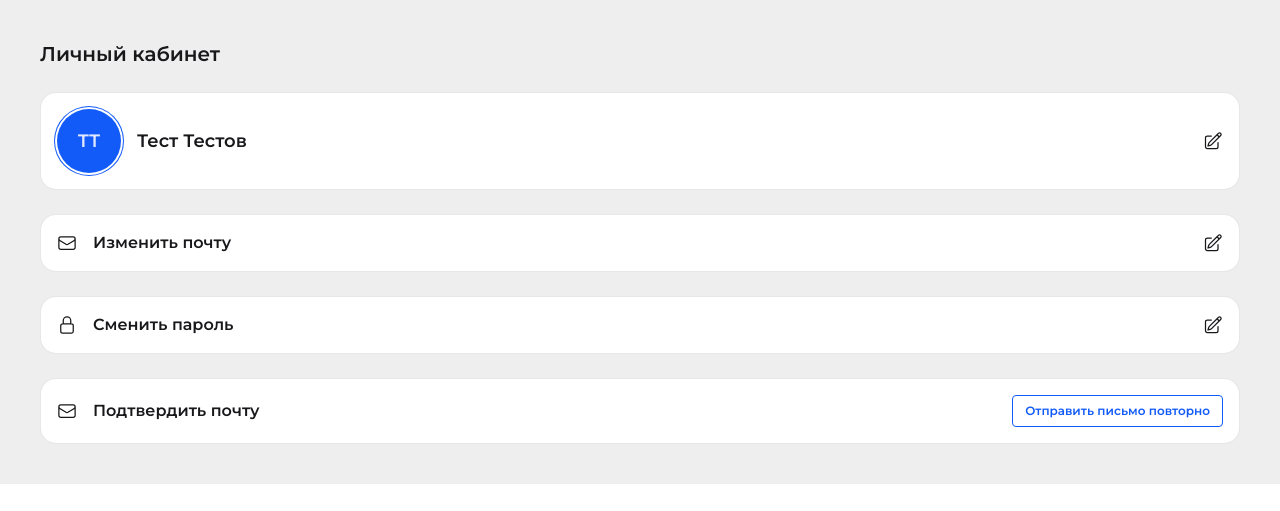
Test case: ProfilePage › VERIFY-03: кнопка disabled во время запроса, повторный клик не шлёт второй запрос
Click the button "Отправить письмо повторно": coordinates (1118, 411) [1012,395,1223,427]
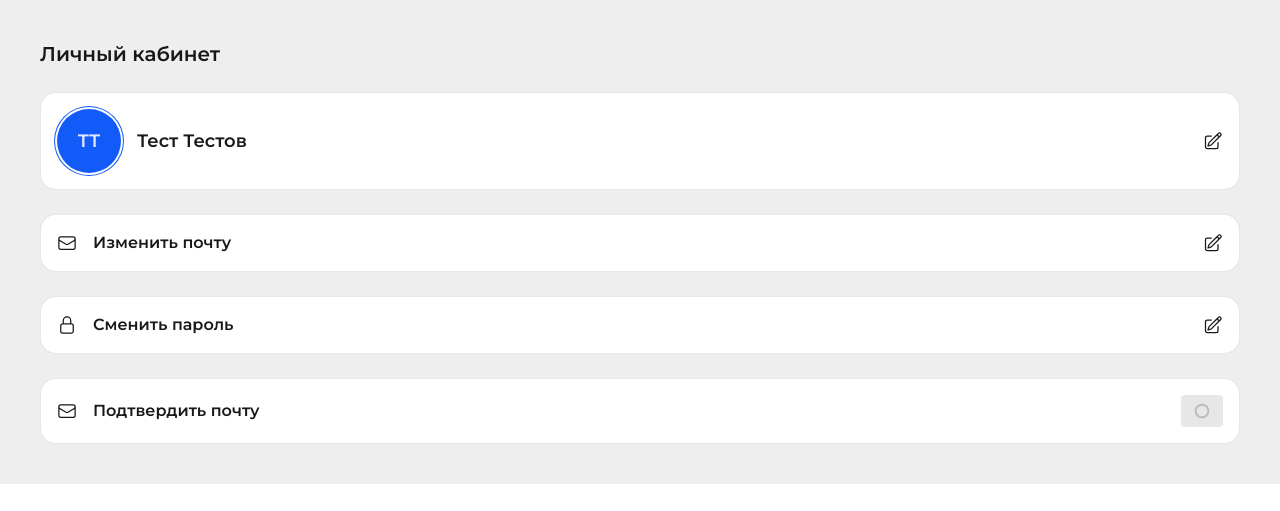
Result: the button named "Отправить письмо повторно" is disabled
Click the button named "Отправить письмо повторно": coordinates (1202, 411) [1181,395,1223,427]
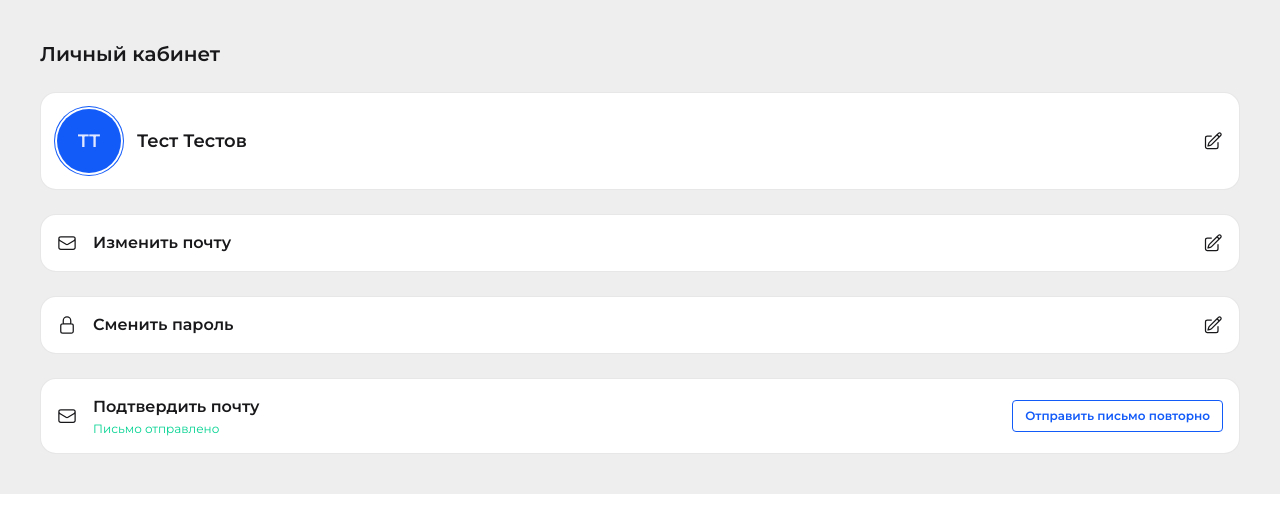
Result: the button "Отправить письмо повторно" is enabled at [1012,400,1223,432]
